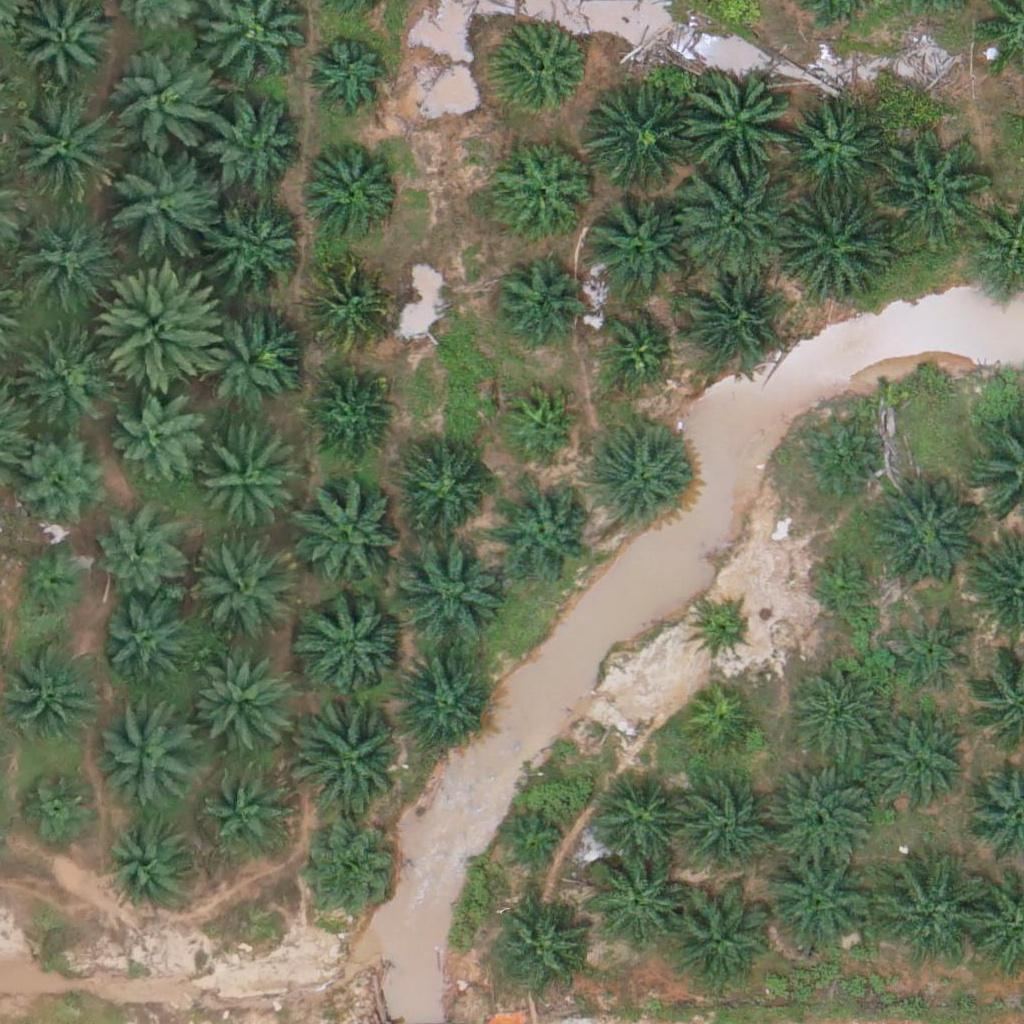Kelapa_Sawit: (101, 266, 226, 392), (775, 190, 888, 304), (103, 144, 216, 258), (866, 481, 979, 594), (764, 759, 877, 872), (761, 847, 874, 960), (663, 886, 776, 999), (392, 532, 505, 645), (293, 476, 406, 589), (297, 587, 410, 700), (5, 92, 118, 205), (9, 204, 122, 317), (582, 86, 695, 199), (110, 50, 223, 163), (869, 856, 981, 970), (875, 132, 987, 245), (683, 165, 795, 278), (296, 699, 408, 812), (682, 69, 794, 182), (583, 195, 683, 296), (866, 715, 966, 816), (674, 781, 774, 882), (589, 772, 689, 873), (391, 653, 491, 754), (491, 898, 591, 999), (303, 137, 403, 238), (299, 826, 399, 927), (210, 196, 310, 297), (196, 433, 296, 534), (191, 545, 291, 646), (187, 653, 287, 754), (13, 325, 113, 426), (15, 426, 115, 527), (782, 96, 882, 197), (6, 640, 106, 741), (681, 270, 781, 370), (591, 430, 691, 530), (789, 663, 889, 763), (584, 852, 684, 952), (494, 138, 594, 238), (497, 483, 597, 583), (205, 103, 305, 203), (195, 303, 295, 403), (98, 705, 198, 805), (492, 23, 592, 123), (889, 609, 977, 697), (794, 417, 882, 505), (491, 255, 579, 343), (402, 450, 490, 538), (302, 261, 390, 349), (95, 513, 183, 601), (301, 30, 389, 118), (98, 600, 185, 689), (305, 369, 392, 457), (205, 771, 292, 859), (107, 820, 194, 908), (113, 393, 200, 481), (14, 546, 89, 622), (503, 386, 578, 462), (21, 768, 96, 843), (598, 312, 673, 387), (806, 548, 881, 623), (682, 686, 757, 761), (497, 810, 572, 885), (691, 599, 754, 662)
